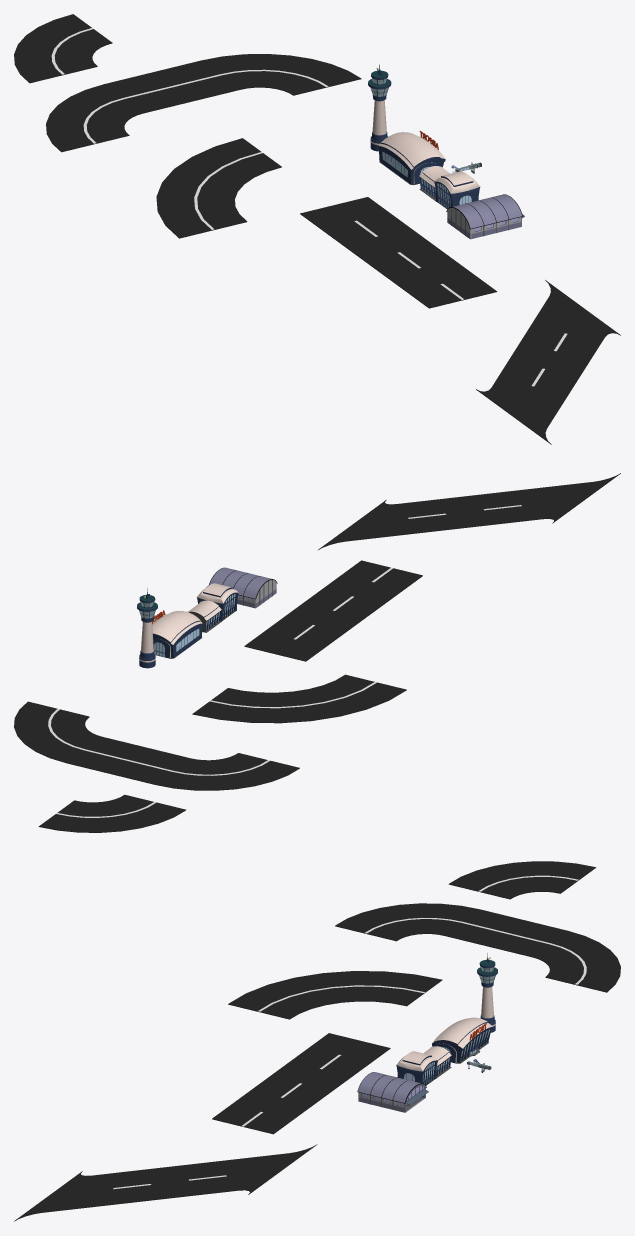
Rendered from airport set.fbx.
3 views of the same model, one above another, from view 1: azimuth 30°, elevation 25°; view 2: azimuth 150°, elevation 25°; view 3: azimuth 330°, elevation 25° (orthographic). The views are drawn at different scales.
Visible parts, largest first — view 1: LandingTrack2Curve, LandingTrack5StraightAngled, LandingTrack1Straight, LandingTrack3Curve2, LandingTrack4Curve3, 04.Hangar, 07.Modulo1, 07.Modulo2, 02.ControlTower; view 2: LandingTrack2Curve, LandingTrack5StraightAngled, LandingTrack1Straight, LandingTrack3Curve2, LandingTrack4Curve3, 07.Modulo1, 04.Hangar, 07.Modulo2, 02.ControlTower; view 3: LandingTrack2Curve, LandingTrack5StraightAngled, LandingTrack1Straight, LandingTrack3Curve2, LandingTrack4Curve3, 04.Hangar, 07.Modulo1, 07.Modulo2, 02.ControlTower.
Part boxes in pixels (x1,y1,x2,y2): LandingTrack2Curve: (46,54,361,152); LandingTrack5StraightAngled: (476,280,620,444); LandingTrack1Straight: (300,197,497,308); LandingTrack3Curve2: (156,138,281,238); LandingTrack4Curve3: (14,14,112,83); 04.Hangar: (446,194,524,239); 07.Modulo1: (378,131,445,185); 07.Modulo2: (419,166,480,209); 02.ControlTower: (368,64,391,151); LandingTrack2Curve: (14,701,299,790); LandingTrack5StraightAngled: (318,473,620,549); LandingTrack1Straight: (244,560,422,661); LandingTrack3Curve2: (192,674,406,723); LandingTrack4Curve3: (38,794,185,832); 07.Modulo1: (152,610,202,658); 04.Hangar: (206,567,277,608); 07.Modulo2: (187,583,238,632); 02.ControlTower: (137,588,157,668); LandingTrack2Curve: (335,903,620,992); LandingTrack5StraightAngled: (14,1144,317,1221); LandingTrack1Straight: (212,1033,390,1134); LandingTrack3Curve2: (228,971,442,1019); LandingTrack4Curve3: (448,861,596,899); 04.Hangar: (357,1072,428,1112); 07.Modulo1: (432,1017,492,1063); 07.Modulo2: (396,1046,451,1085); 02.ControlTower: (477,953,497,1032).
Size of the model in its own units: 36113 by 10107 by 116756.
